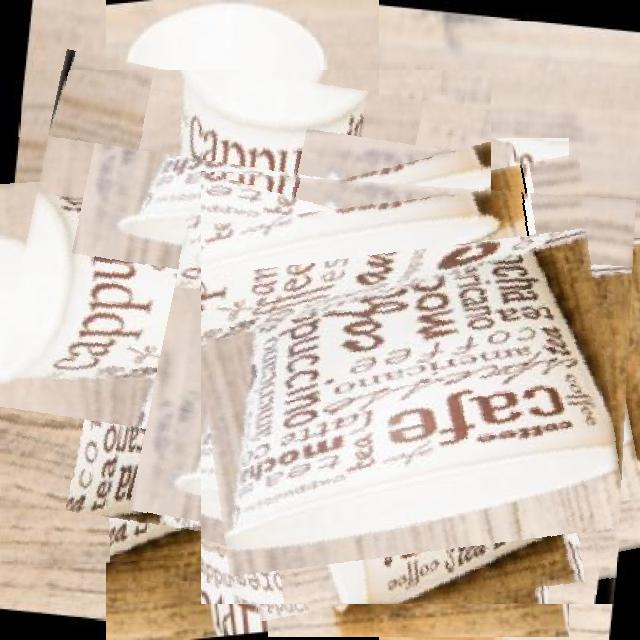non-biodegradable: (0, 70, 491, 569), (201, 171, 636, 604)
